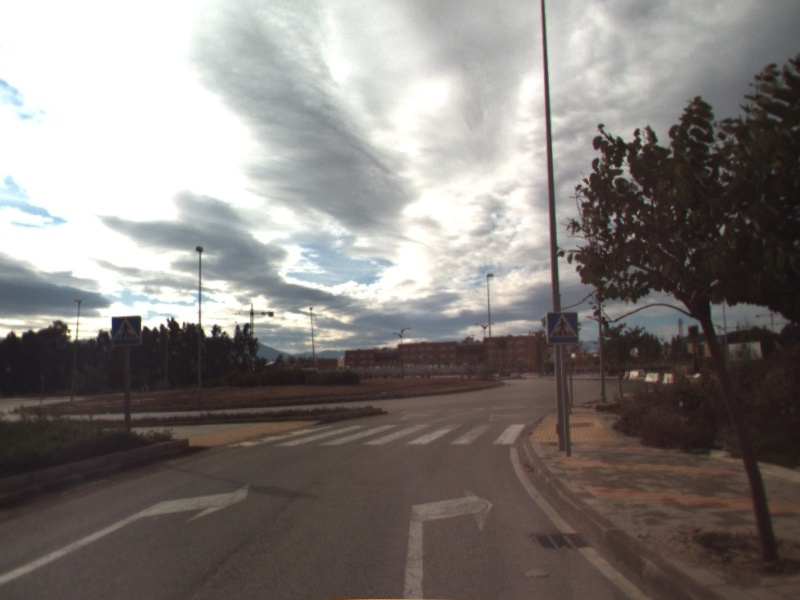RIGHT: (1, 478, 254, 586), (400, 485, 496, 600)
